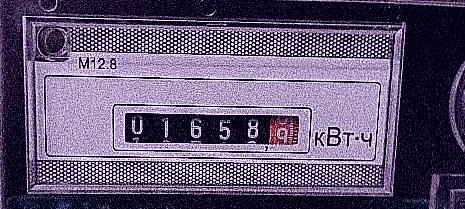0: (130, 113, 144, 135)
1: (160, 116, 171, 138)
5: (217, 117, 232, 140)
6: (188, 116, 203, 138)
8: (245, 116, 260, 138)
9: (273, 125, 288, 146)
screen: (106, 98, 319, 158)
